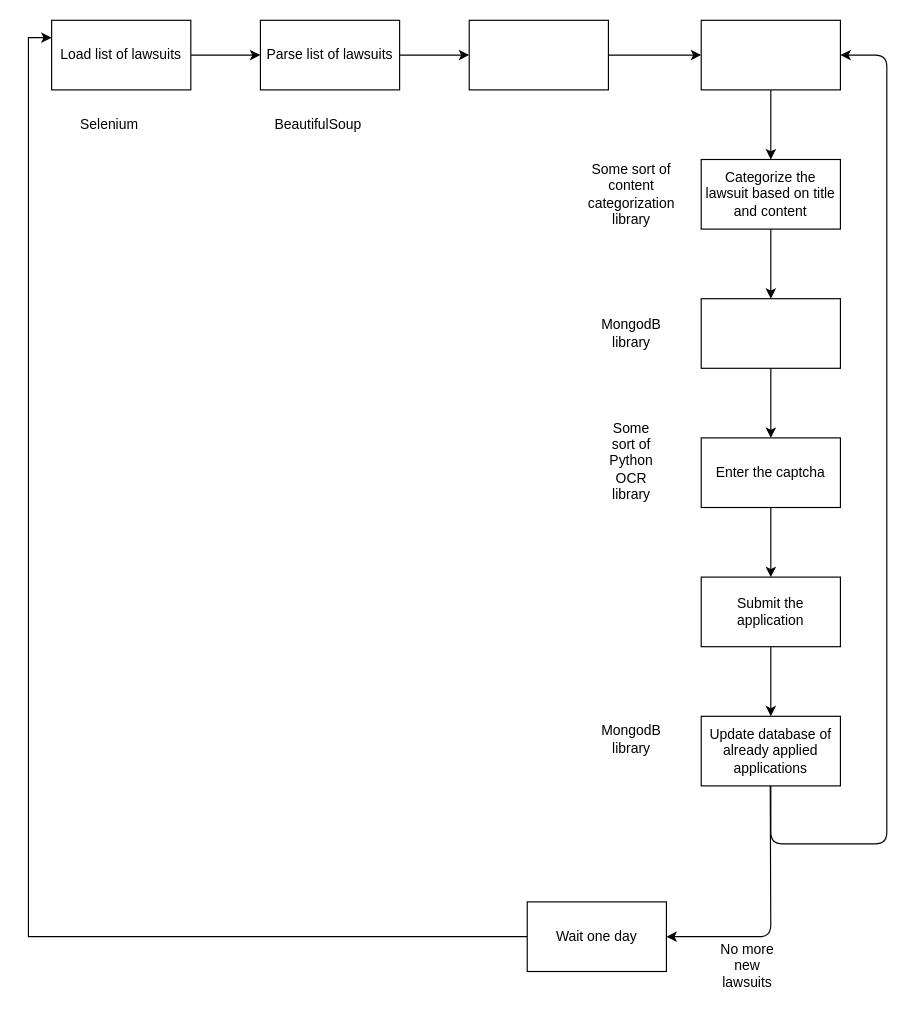
Some shapes in this 916 by 1010 pixel diagram are drawn without their labels. Each missing label, with the centre of its shape:
"Fill in the name, address, and problem description accordingly" belongs at (770,333).
"FIlter out new lawsuits" belongs at (538,54).
"For each lawsuit" belongs at (770,54).
